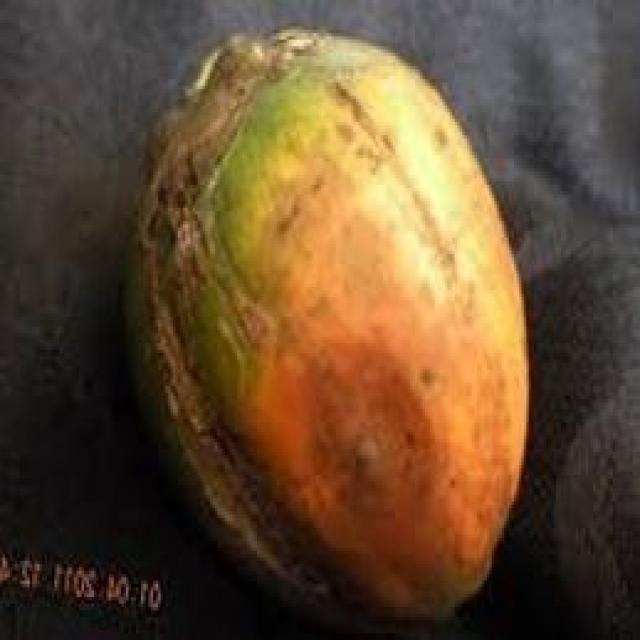good: (121, 30, 531, 637)
